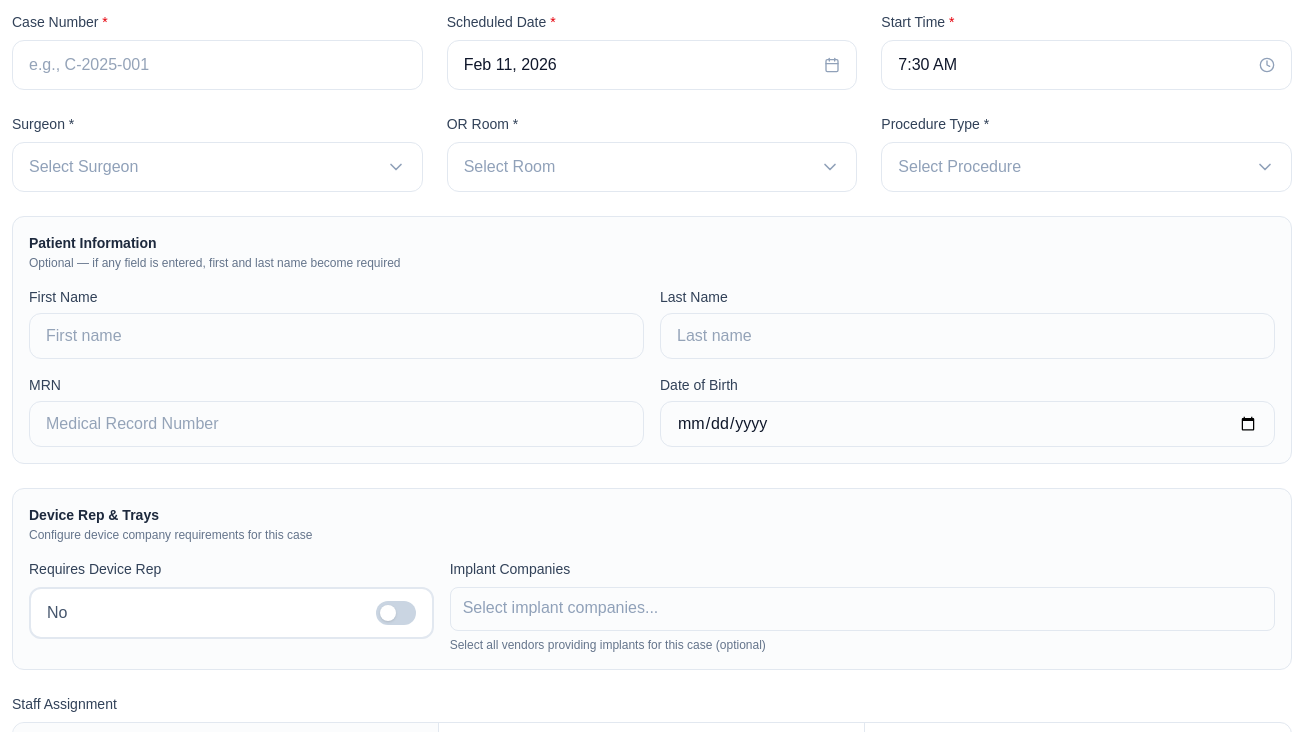
CaseForm — Phase 1: Transaction Safety + Validation › 1.3 — Inline Zod validation on blur › shows error on case number field when blurred empty
This screenshot has width=1304, height=732.
// Focus then blur the case number field without typing
Click the field with placeholder "e.g., C-2025-001" at (217, 65), box [12,40,423,90]
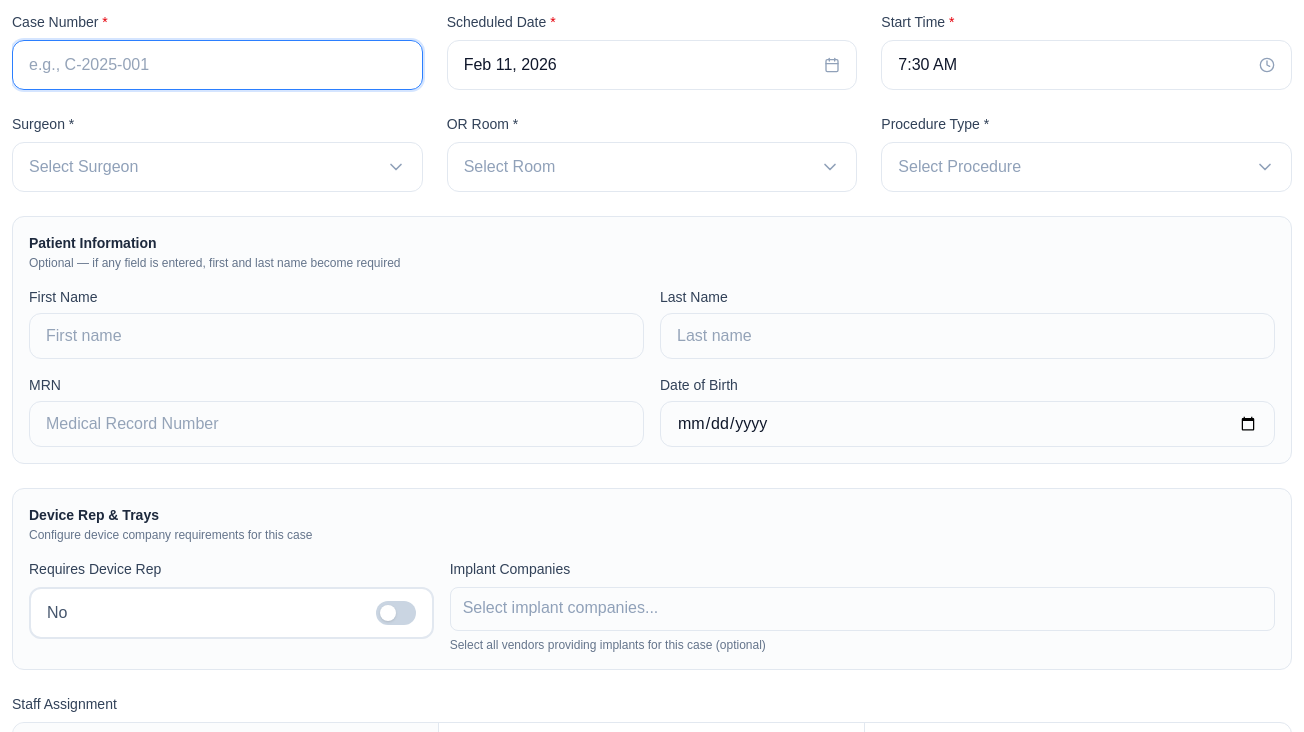
Press Tab
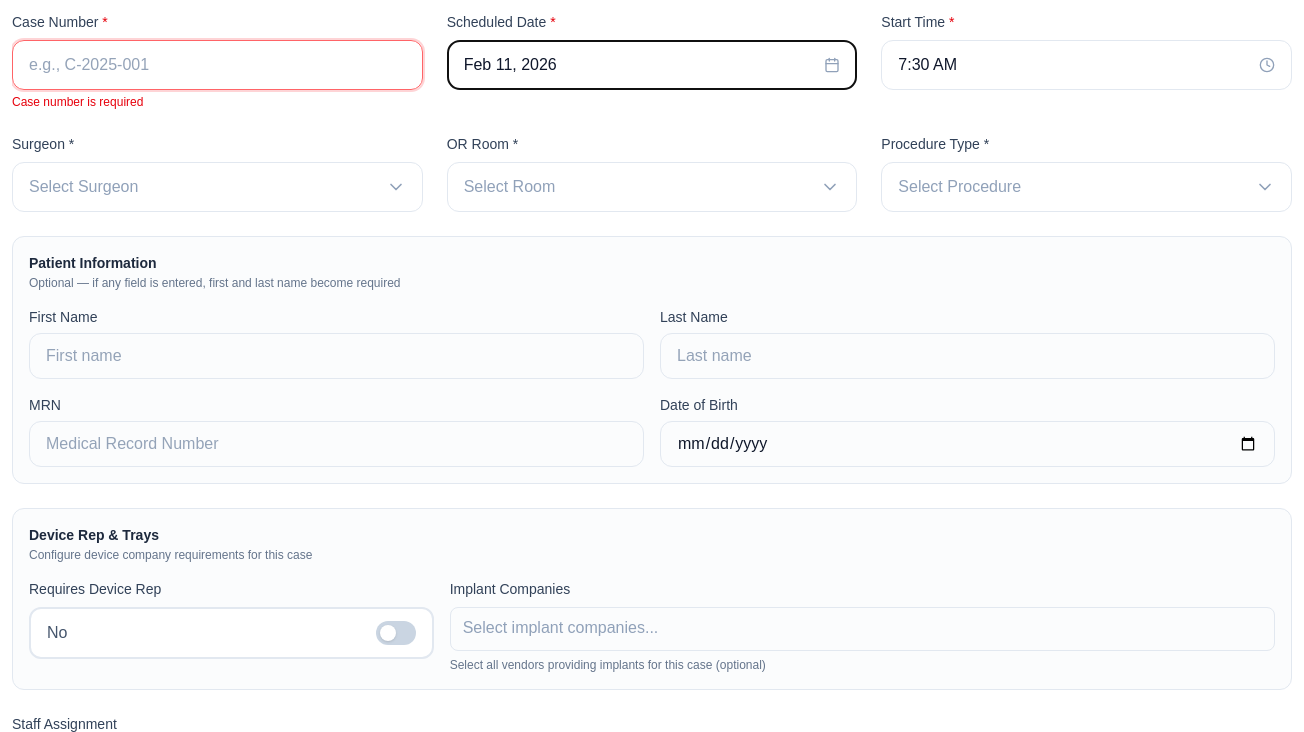
Result: the text "Case number is required" is shown at [12,95,143,109]
